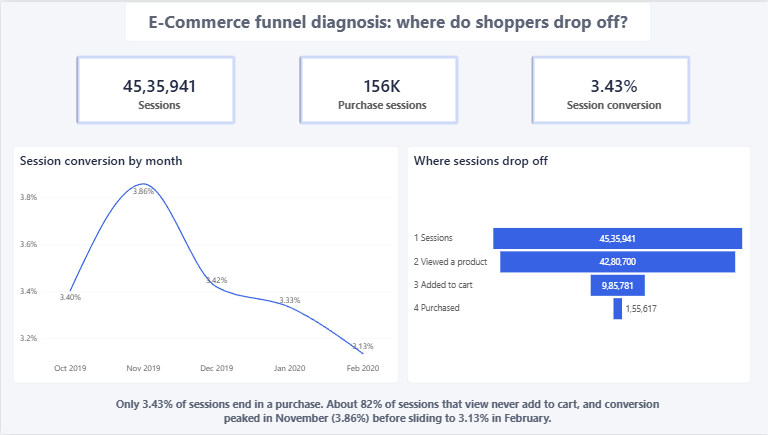

The page's visual inventory and layout, read from the dashboard file:
{"tool":"powerbi","page":{"name":"Overview","canvas":[1920,1080],"ordinal":0},"visuals":[{"type":"cardVisual","title":"Total sessions","fields":{"Data":["Sum(monthly_funnel.sessions)"]},"box":[187.5,132.5,400,175],"z":0},{"type":"lineChart","title":"Session conversion by month","fields":{"Category":["monthly_funnel.month_label"],"Y":["monthly_funnel.Session Conversion %"]},"box":[30,360,965,592.5],"z":1000},{"type":"cardVisual","title":"Purchase sessions","fields":{"Data":["Sum(monthly_funnel.purchase_sessions)"]},"box":[745,132.5,400,175],"z":2000},{"type":"cardVisual","title":"Total sessions","fields":{"Data":["monthly_funnel.Session Conversion %"]},"box":[1325,132.5,400,175],"z":3000},{"type":"textbox","box":[310,0,1315,97.5],"z":4000},{"type":"textbox","box":[272.5,985,1387.5,95],"z":5000},{"type":"funnel","title":"Where sessions drop off","fields":{"Category":["Funnel Stages.Stage"],"Y":["Sum(Funnel Stages.Total)"]},"box":[1015,360,860,592.5],"z":6000}]}

Visuals, with their boxes in screenshot pixels (x1, y1, x2, y2), scaled from the page's 1920x1080 canvas onto the 768x435 screenshot:
"Total sessions" cardVisual: (75,53,235,124)
"Session conversion by month" lineChart: (12,145,398,384)
"Purchase sessions" cardVisual: (298,53,458,124)
"Total sessions" cardVisual: (530,53,690,124)
textbox: (124,0,650,39)
textbox: (109,397,664,434)
"Where sessions drop off" funnel: (406,145,750,384)
